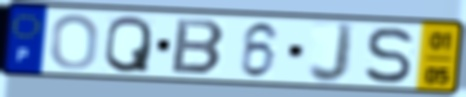6: (241, 20, 279, 79)
B: (169, 17, 229, 78)
J: (306, 20, 358, 86)
O: (48, 12, 102, 72)
Q: (102, 13, 155, 75)
S: (362, 25, 416, 86)
